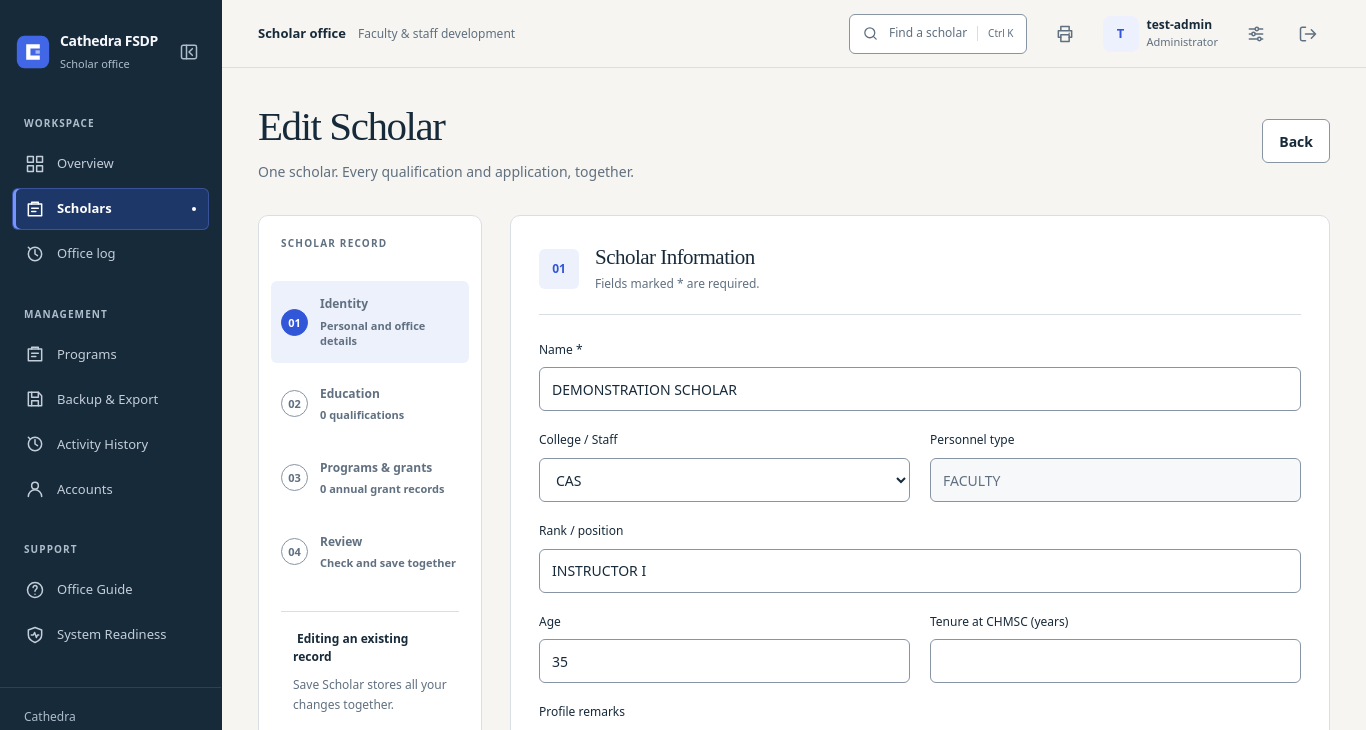
Test: unconfirmed logout survives navigation and clears local credentials
Expected: the field labelled "Name *" is shown, x1=539 y1=367 x2=1301 y2=411
Click the button named "Logout" at x=1308, y=34, box x1=1286 y1=12 x2=1330 y2=56
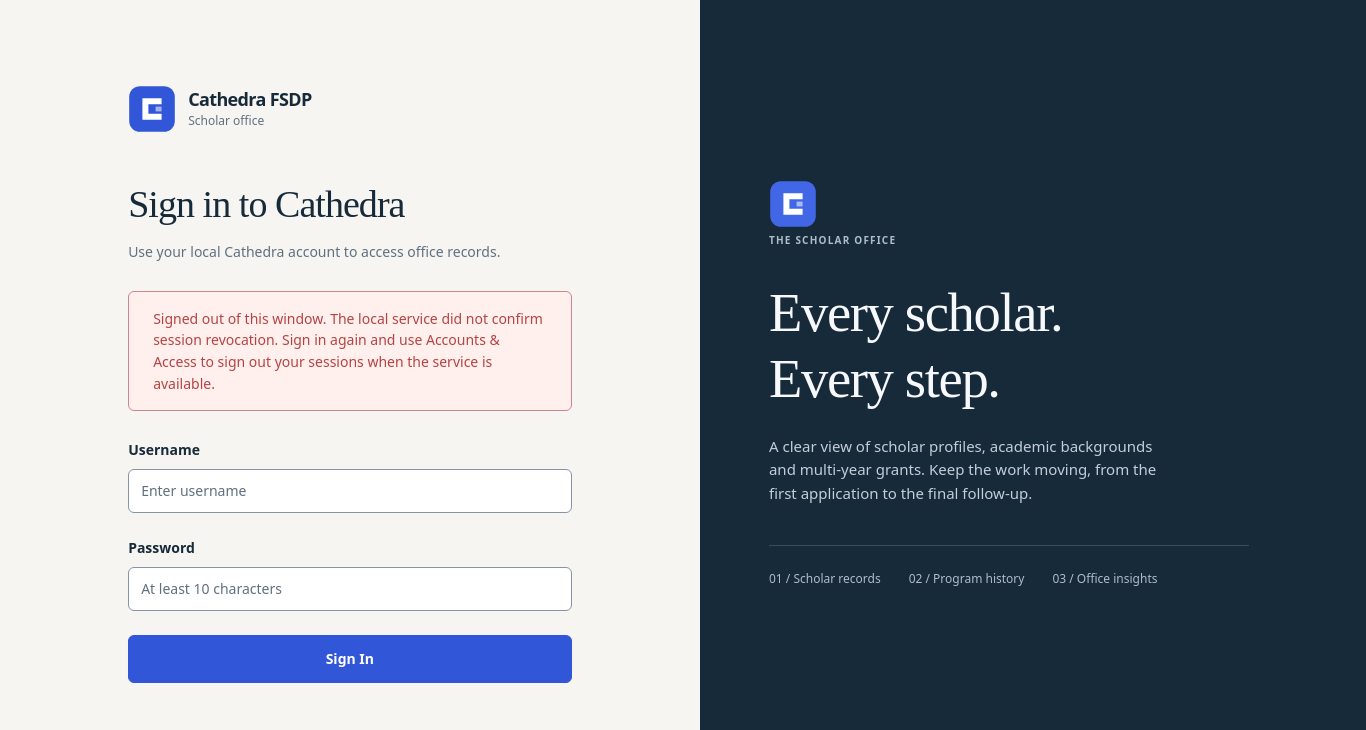
Expected: the text "The local service did not confirm session revocation" is shown, x1=153 y1=308 x2=543 y2=393
